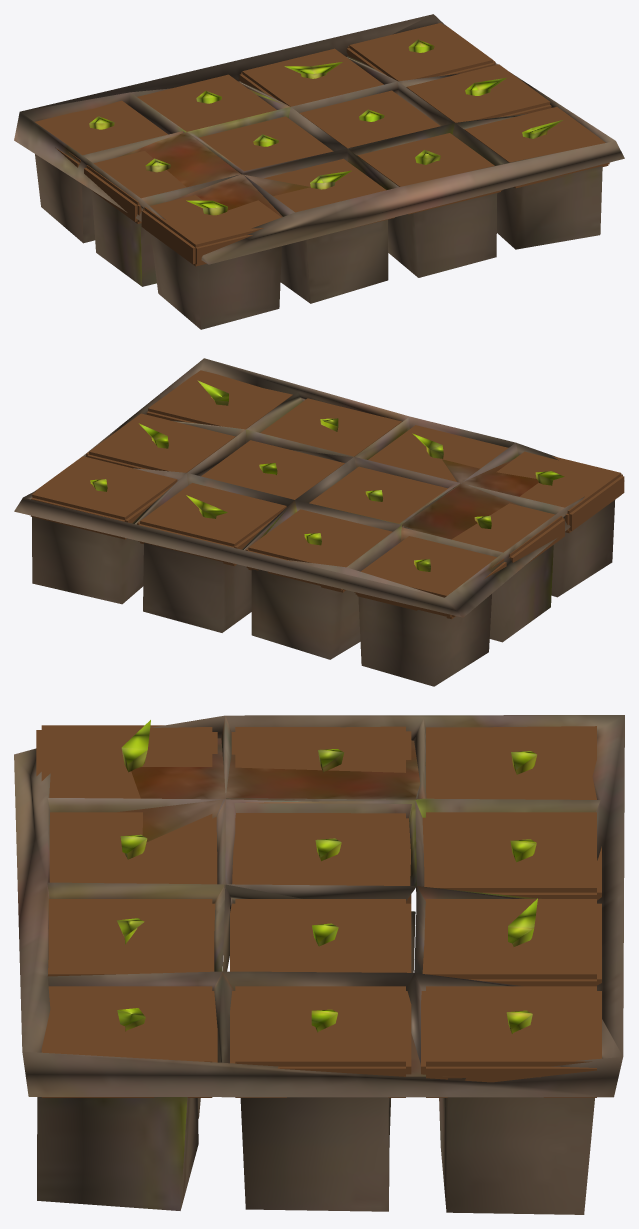
3 renders of one model, top to bottom at view 1: azimuth 30°, elevation 25°; view 2: azimuth 150°, elevation 25°; view 3: azimuth 270°, elevation 25°, orthographic. The views are drawn at different scales.
Visible parts, largest first — view 1: tripo_node_52ffaec6-fb22-4539-8b55-ea099103fd6f, 외형 세부; view 2: tripo_node_52ffaec6-fb22-4539-8b55-ea099103fd6f, 외형 세부; view 3: 외형 세부, tripo_node_52ffaec6-fb22-4539-8b55-ea099103fd6f.
Part boxes in pixels (x1=…): tripo_node_52ffaec6-fb22-4539-8b55-ea099103fd6f: x1=14, y1=14, x2=624, y2=329; 외형 세부: x1=35, y1=23, x2=609, y2=266; tripo_node_52ffaec6-fb22-4539-8b55-ea099103fd6f: x1=14, y1=358, x2=614, y2=686; 외형 세부: x1=30, y1=370, x2=624, y2=619; 외형 세부: x1=36, y1=725, x2=601, y2=1097; tripo_node_52ffaec6-fb22-4539-8b55-ea099103fd6f: x1=14, y1=715, x2=624, y2=1214.
Bounding box in the file's own units: 1.25 × 0.2868 × 0.902.
2 materials, 1 textured.
